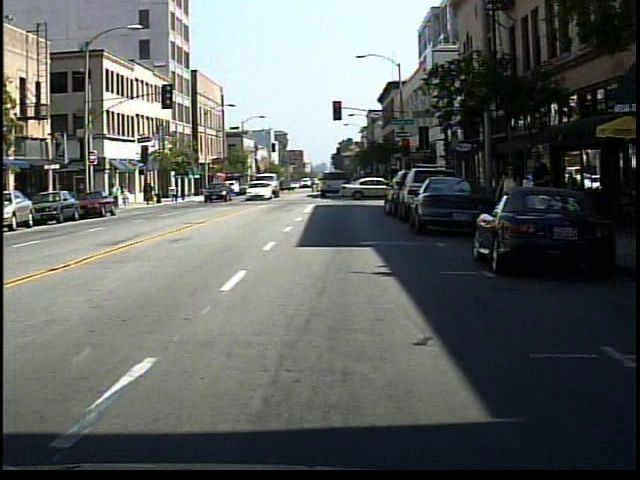person: (519, 144, 553, 251), (496, 155, 522, 247), (123, 185, 137, 211), (109, 181, 123, 204)
